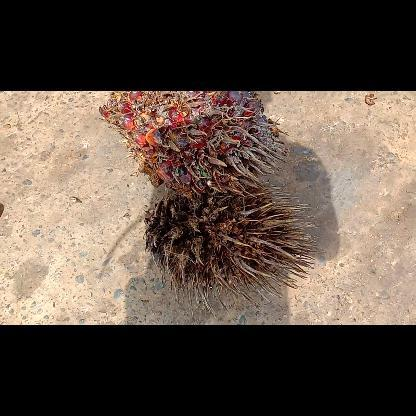Janjang kosong: (144, 182, 318, 320)
TBS masak: (98, 90, 286, 198)
